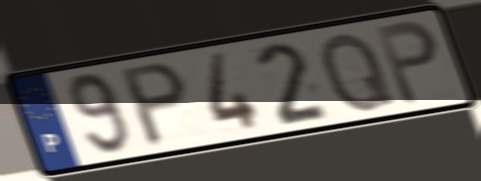2: (255, 40, 335, 129)
4: (206, 50, 263, 134)
9: (66, 71, 135, 157)
P: (117, 59, 191, 152), (371, 17, 443, 109)
Q: (317, 29, 399, 116)
